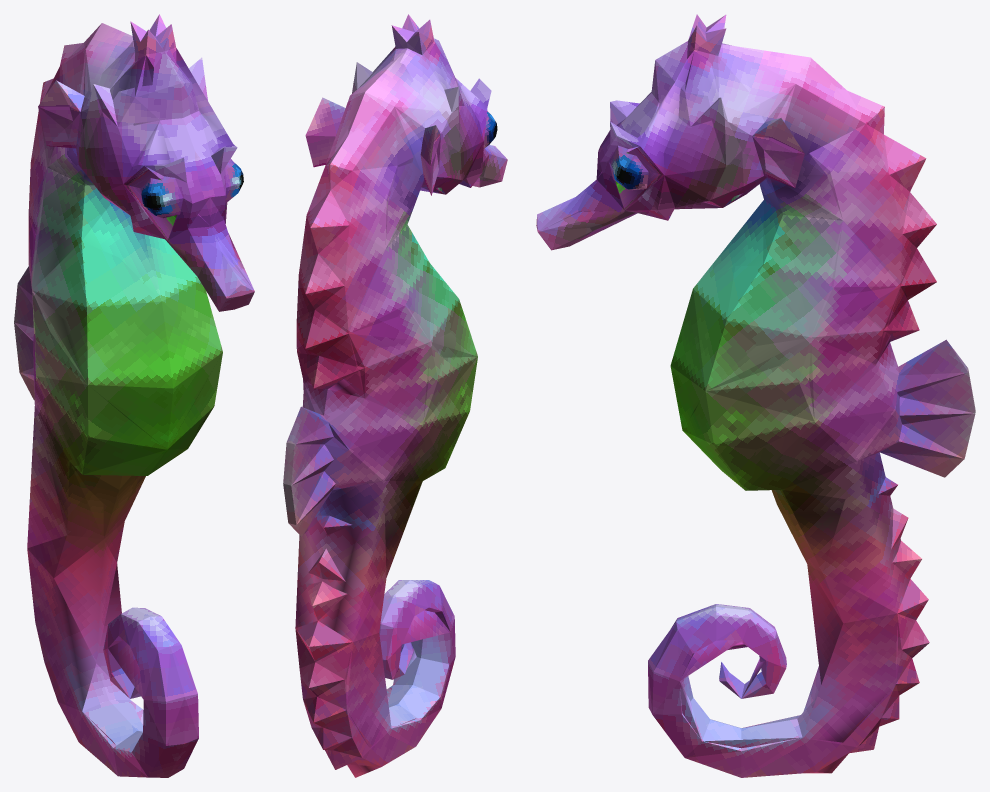
File: item_fish_seahorse.glb
3 renders of one model, left to right at view 1: azimuth 30°, elevation 25°; view 2: azimuth 150°, elevation 25°; view 3: azimuth 270°, elevation 25°, orthographic. The views are drawn at different scales.
Visible parts, largest first — view 1: seahorse; view 2: seahorse; view 3: seahorse.
Boxes of the visible parts, <box> form: seahorse: <box>14,14,254,777</box>; seahorse: <box>283,14,507,777</box>; seahorse: <box>536,14,975,777</box>.
Bounding box in the file's own units: 0.0651 × 0.33 × 0.1742.
Materials: 1 (1 with a texture image).
